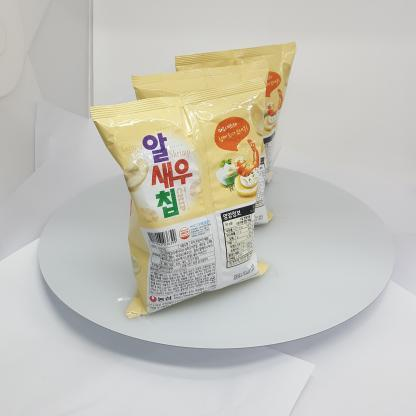Plastic Packaging: (90, 66, 278, 320)
